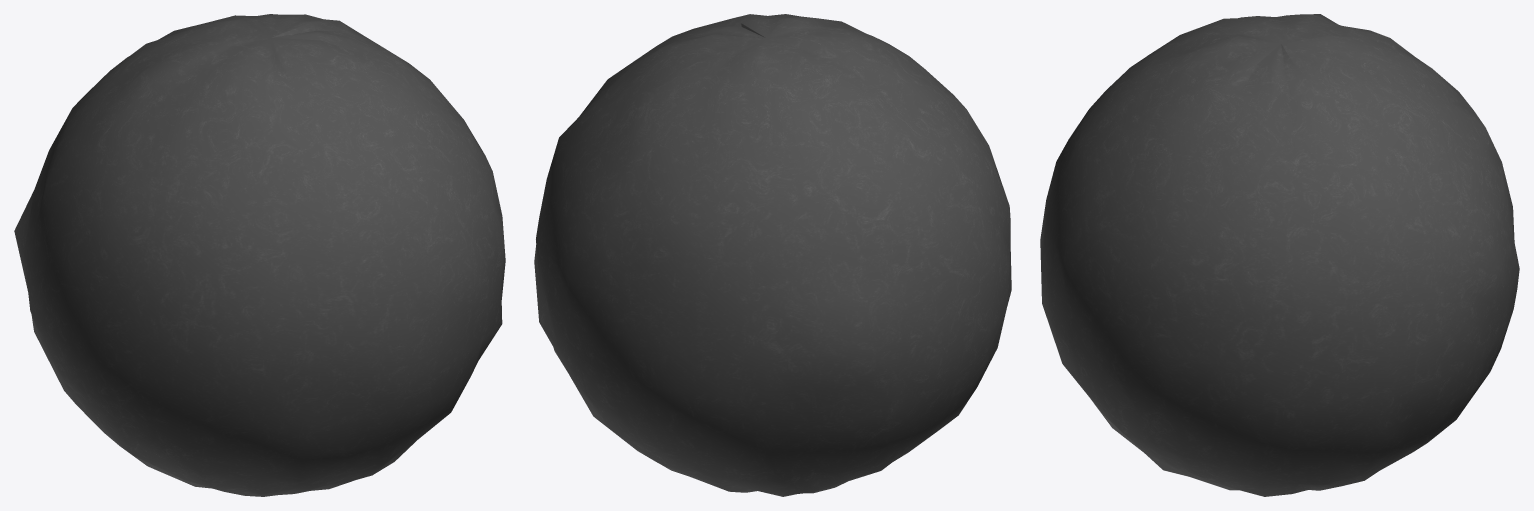
File: AtlasBallEmbed.fbx
3 views of the same model, side by side, from view 1: azimuth 30°, elevation 25°; view 2: azimuth 150°, elevation 25°; view 3: azimuth 270°, elevation 25° (orthographic).
Visible parts, largest first — view 1: Sphere.002; view 2: Sphere.002; view 3: Sphere.002.
Part boxes in pixels (left/top/right/bottom): Sphere.002: left=14, top=14, right=505, bottom=496; Sphere.002: left=534, top=14, right=1011, bottom=496; Sphere.002: left=1040, top=14, right=1519, bottom=496.
Size of the model in its own units: 60.63 by 61.27 by 60.92.
1 material, 1 textured.
